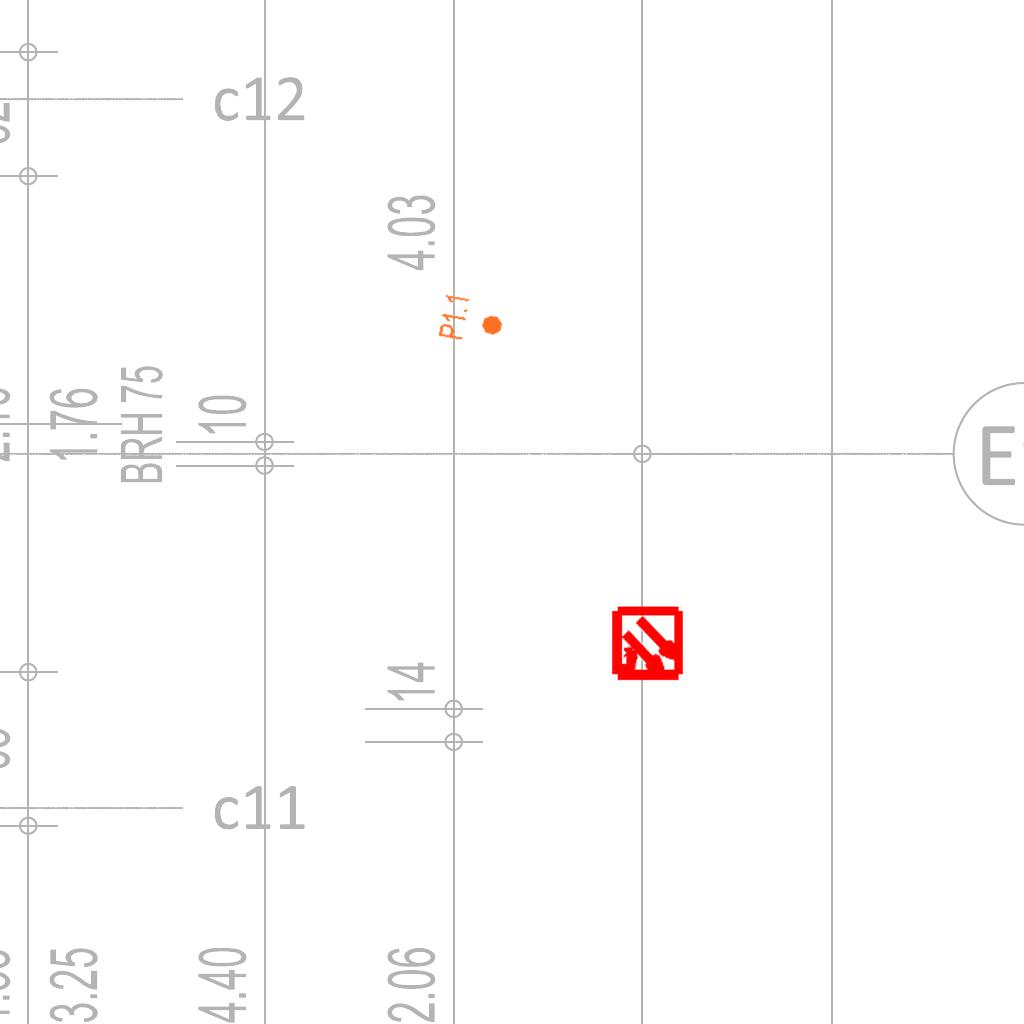Downlight_LED_Einbauleuchten_Flur: (436, 291, 508, 349)
OT_Multisensormelder_(Kombination_RMO_WMD): (591, 589, 704, 702)
